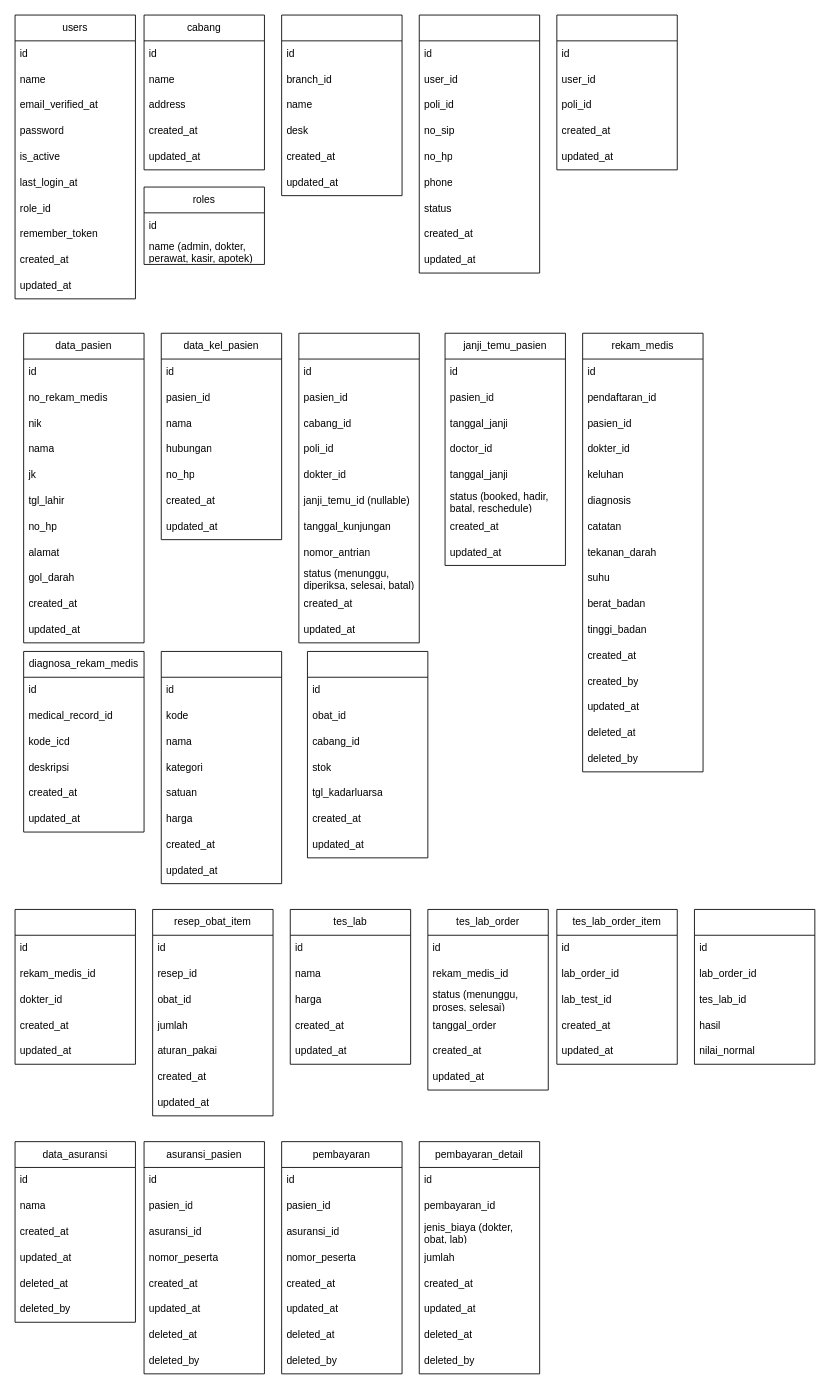
This 830x1389 diagram has some shape labels left out. Here are the shapes that lost their labels. From the top down, the box of each, then its label:
(281, 14, 402, 196): poli
(556, 14, 677, 170): perawat
(418, 14, 540, 273): data_dokter
(298, 332, 419, 643): pendaftaran_pasien
(160, 651, 282, 884): data_obat
(307, 651, 428, 858): stok_obat
(14, 909, 135, 1064): resep_obat
(694, 909, 815, 1064): hasil_lab
